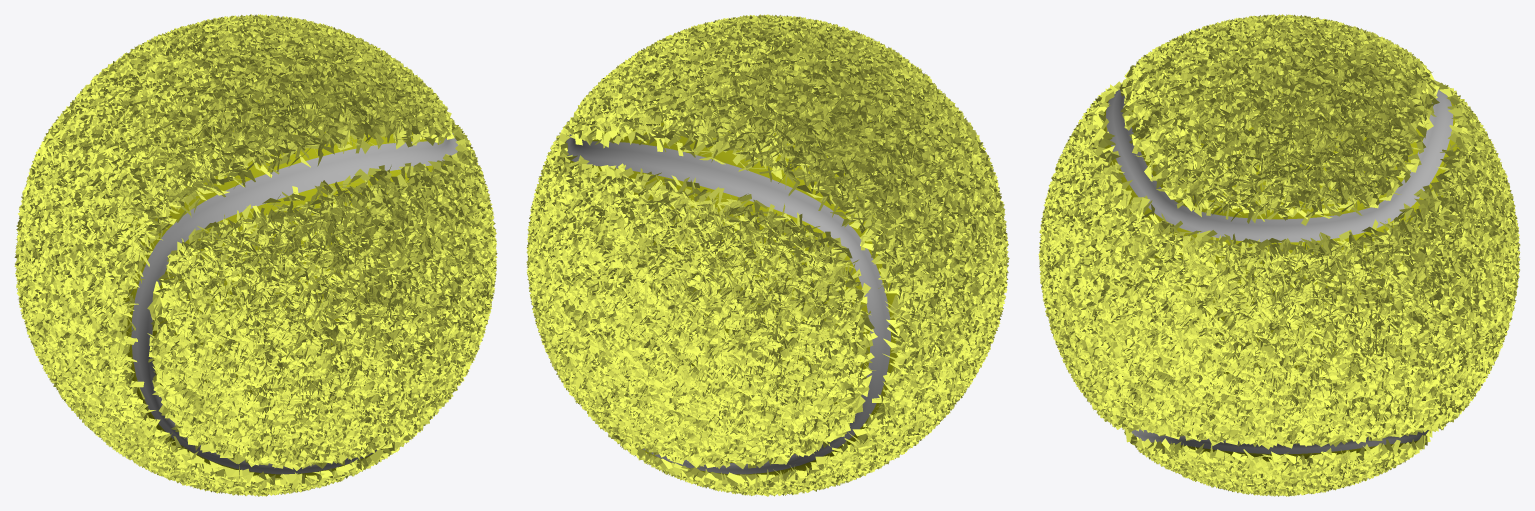
Rendered from tennis_ball.glb.
The picture shows the model from 3 angles, left to right: view 1: azimuth 30°, elevation 25°; view 2: azimuth 150°, elevation 25°; view 3: azimuth 270°, elevation 25°; orthographic projection.
Visible parts, largest first — view 1: Fuzz_Export; view 2: Fuzz_Export; view 3: Fuzz_Export.
Boxes of the visible parts, <box> form: Fuzz_Export: <box>14,14,497,496</box>; Fuzz_Export: <box>526,14,1009,496</box>; Fuzz_Export: <box>1038,14,1520,496</box>.
Size of the model in its own units: 1.69 by 1.69 by 1.69.
Materials: 3 (1 with a texture image).
